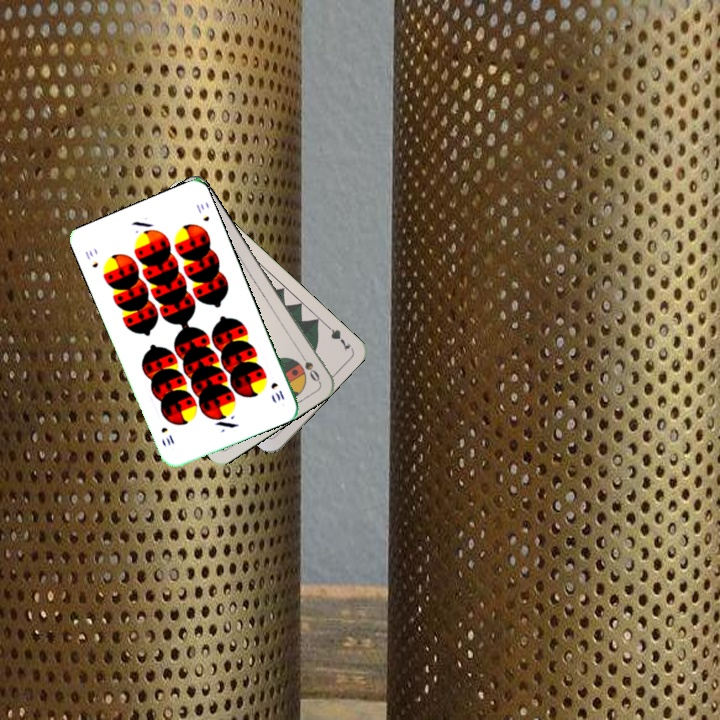G7: (320, 319, 353, 353)
S10: (267, 378, 287, 404), (81, 246, 101, 270)
SO: (295, 348, 322, 384)
